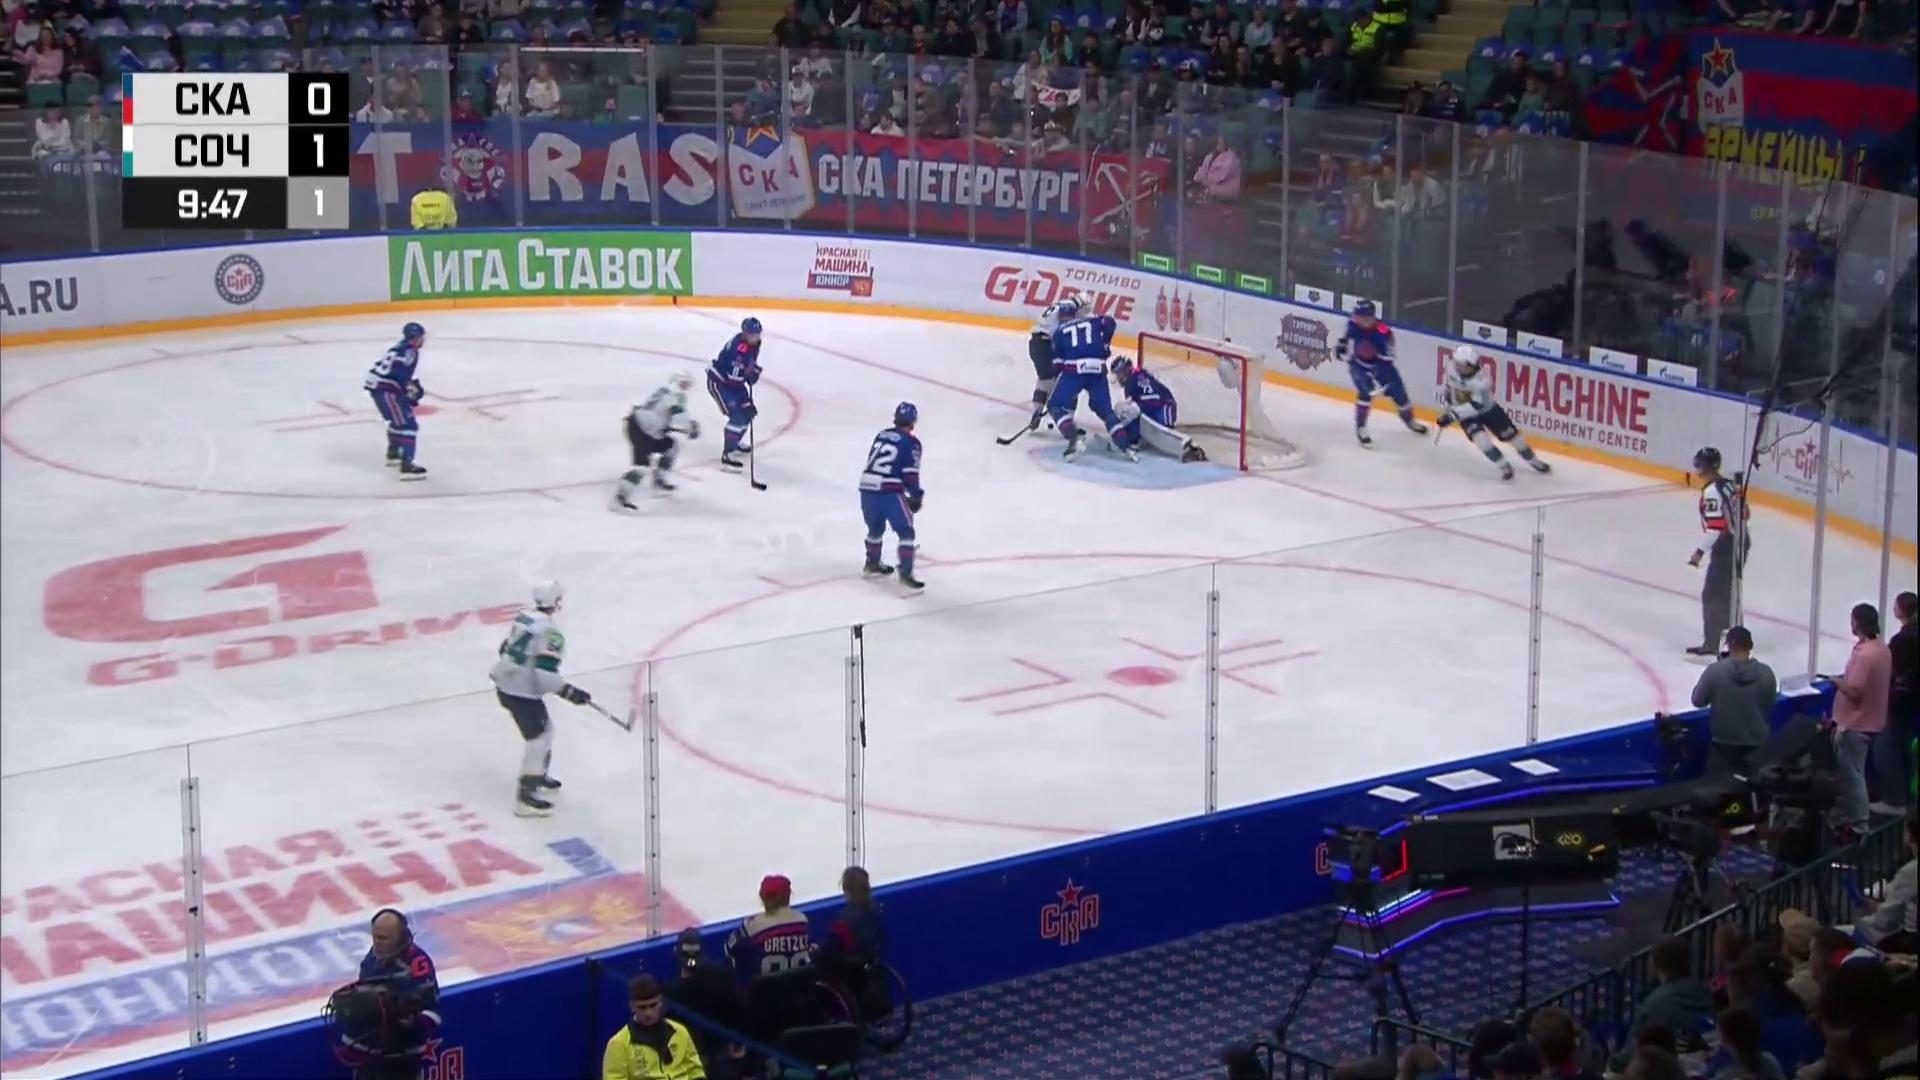ball: (1047, 422, 1054, 430)
